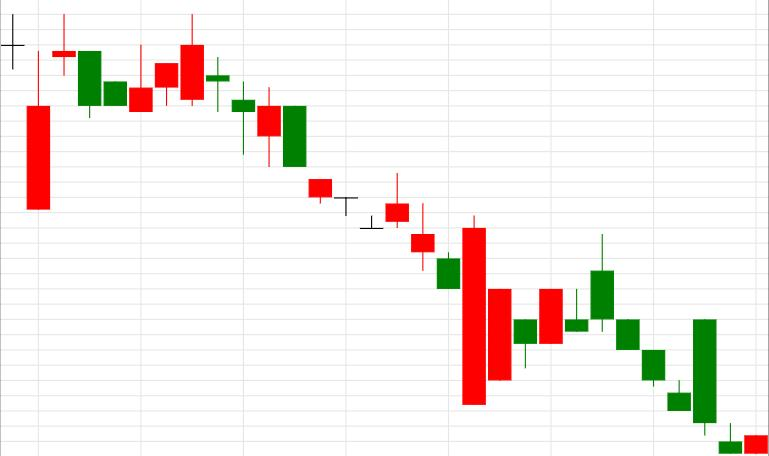bullish_engulfing_rise: (284, 106, 486, 404)
